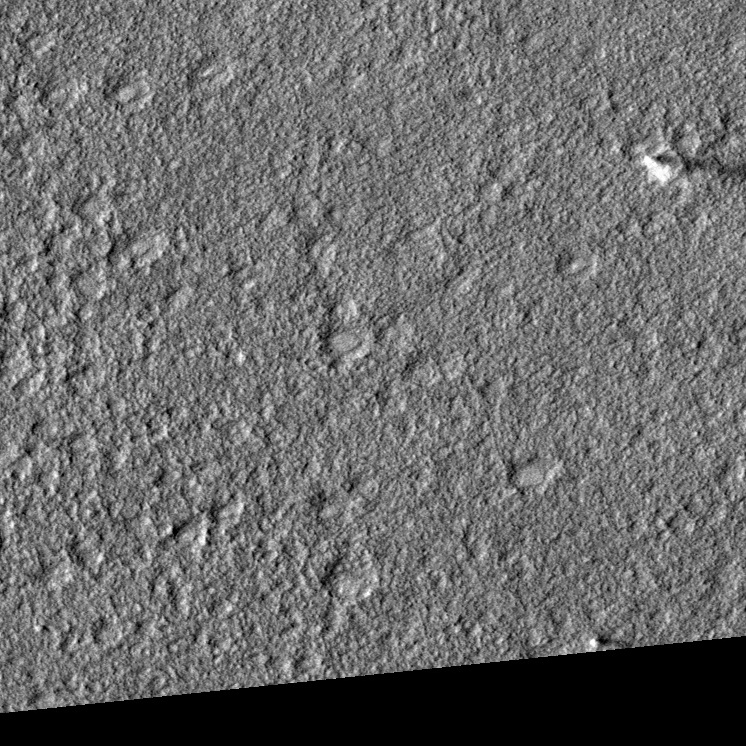dust_devil: (640, 152, 746, 189)
